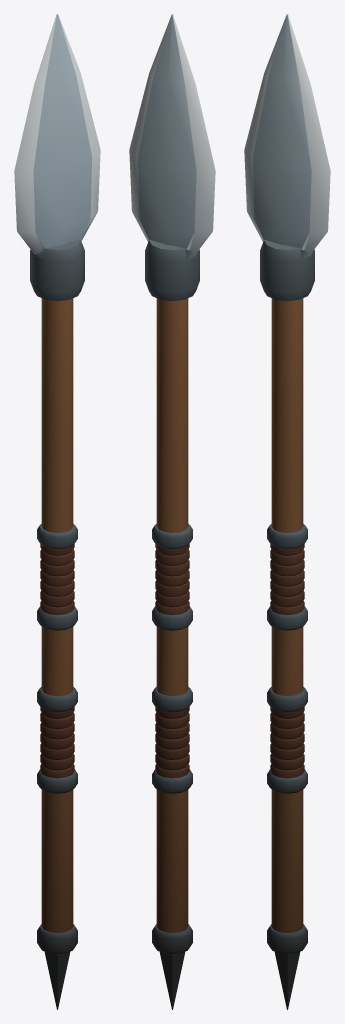
The model's file is spear_steel.glb.
3 views of the same model, side by side, from view 1: azimuth 30°, elevation 25°; view 2: azimuth 150°, elevation 25°; view 3: azimuth 330°, elevation 25° (orthographic).
Parts seen in each view (by area): view 1: Item; view 2: Item; view 3: Item.
Part boxes in pixels (x1,y1,x2,y2): Item: (14,14,100,1009); Item: (129,14,215,1009); Item: (244,14,330,1009).
Bounding box in the file's own units: 0.266 × 2.93 × 0.146.
2 materials, 2 textured.
